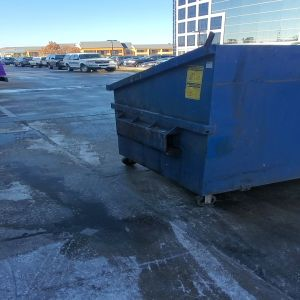Dumpster: (113, 44, 300, 210)
